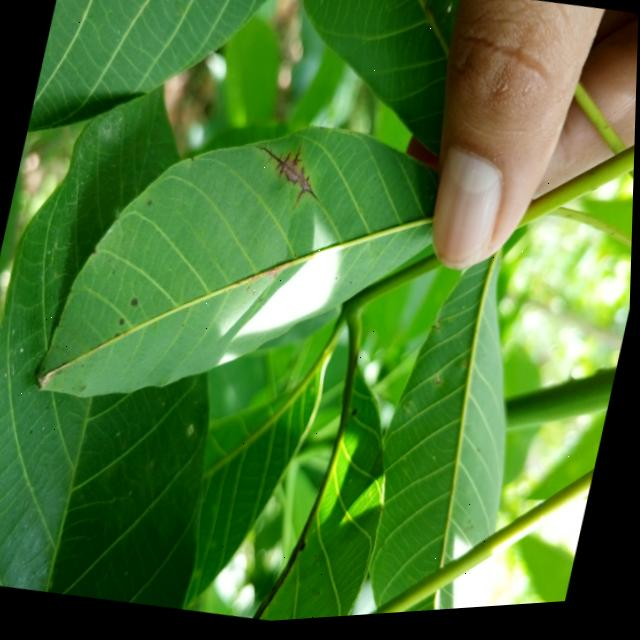Corynespora: (246, 138, 331, 223)
